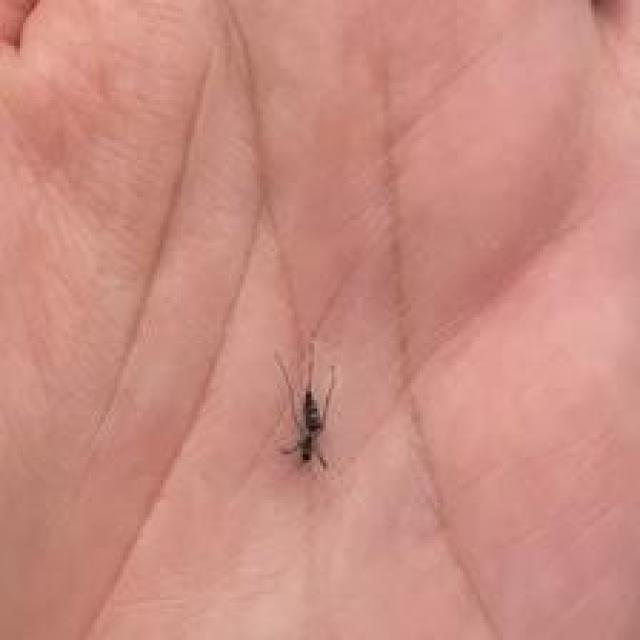Aedes albopictus: (272, 340, 337, 471)
